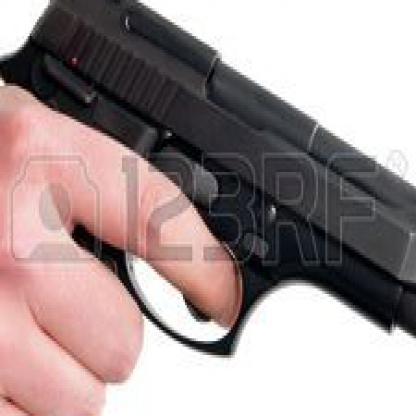gun: (0, 0, 414, 391)
